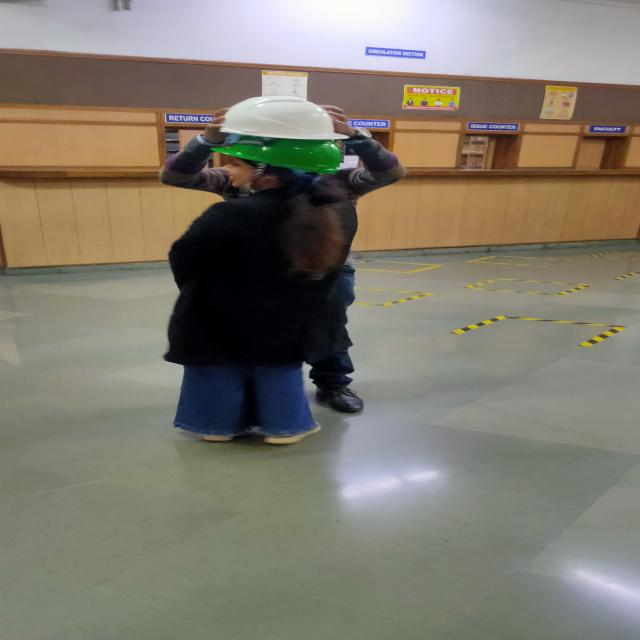no jacket: (168, 133, 343, 446)
